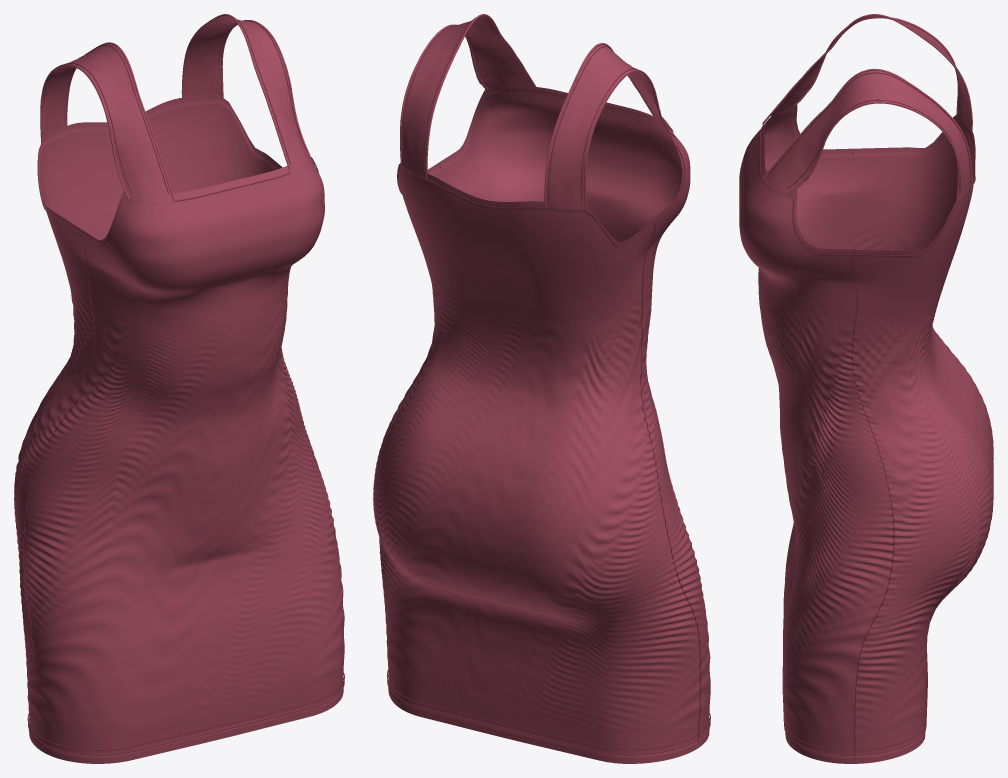
File: vestido-mini-plisado_S.glb
3 renders of one model, left to right at view 1: azimuth 30°, elevation 25°; view 2: azimuth 150°, elevation 25°; view 3: azimuth 270°, elevation 25°, orthographic. The views are drawn at different scales.
Parts seen in each view (by area): view 1: vestido, tirante (×2), pespunte (×3), tirante-borde (×3); view 2: vestido, tirante (×2), pespunte (×3), tirante-borde (×2); view 3: vestido, tirante (×2), tirante-borde (×3), pespunte (×2).
Part boxes in pixels (left/top/right/bottom): vestido: left=14, top=95, right=344, bottom=763; tirante (×2): left=40, top=14, right=308, bottom=203; pespunte (×3): left=22, top=231, right=344, bottom=755; tirante-borde (×3): left=40, top=14, right=291, bottom=200; vestido: left=373, top=85, right=710, bottom=763; tirante (×2): left=401, top=14, right=673, bottom=210; pespunte (×3): left=387, top=219, right=710, bottom=755; tirante-borde (×2): left=425, top=14, right=674, bottom=210; vestido: left=739, top=104, right=993, bottom=763; tirante (×2): left=763, top=14, right=971, bottom=202; tirante-borde (×3): left=762, top=14, right=972, bottom=202; pespunte (×2): left=767, top=72, right=971, bottom=758.
Bounding box in the file's own units: 0.3767 × 0.799 × 0.2824.
